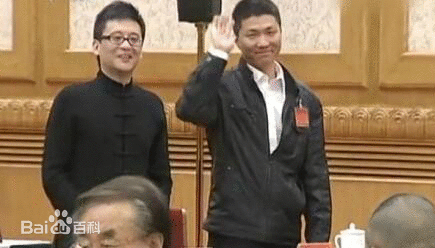handsup: (176, 5, 347, 244)
other: (37, 7, 182, 239)
